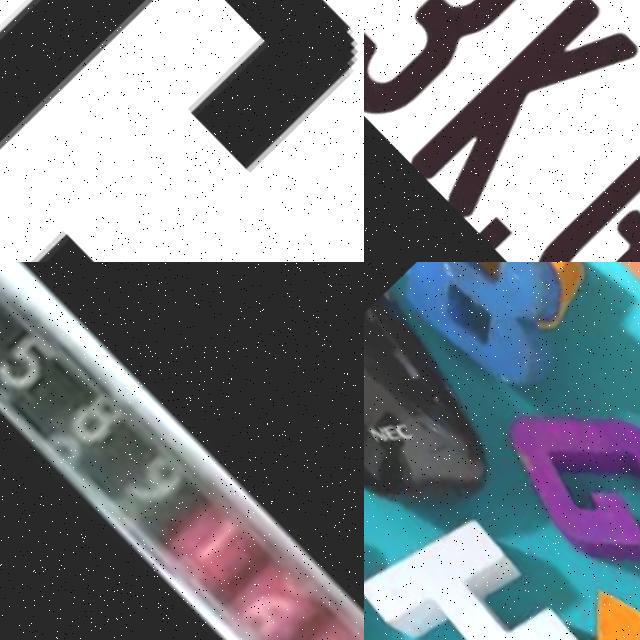1: (178, 505, 245, 568)
3: (364, 0, 559, 131)
5: (0, 322, 63, 396)
6: (226, 580, 295, 640)
8: (54, 382, 128, 452)
9: (111, 438, 193, 517)
B: (386, 262, 604, 401)
C: (0, 0, 364, 262)
G: (475, 361, 640, 609), (498, 94, 640, 262)
H: (364, 476, 602, 640)
K: (391, 0, 640, 219)
M: (364, 434, 421, 640)
